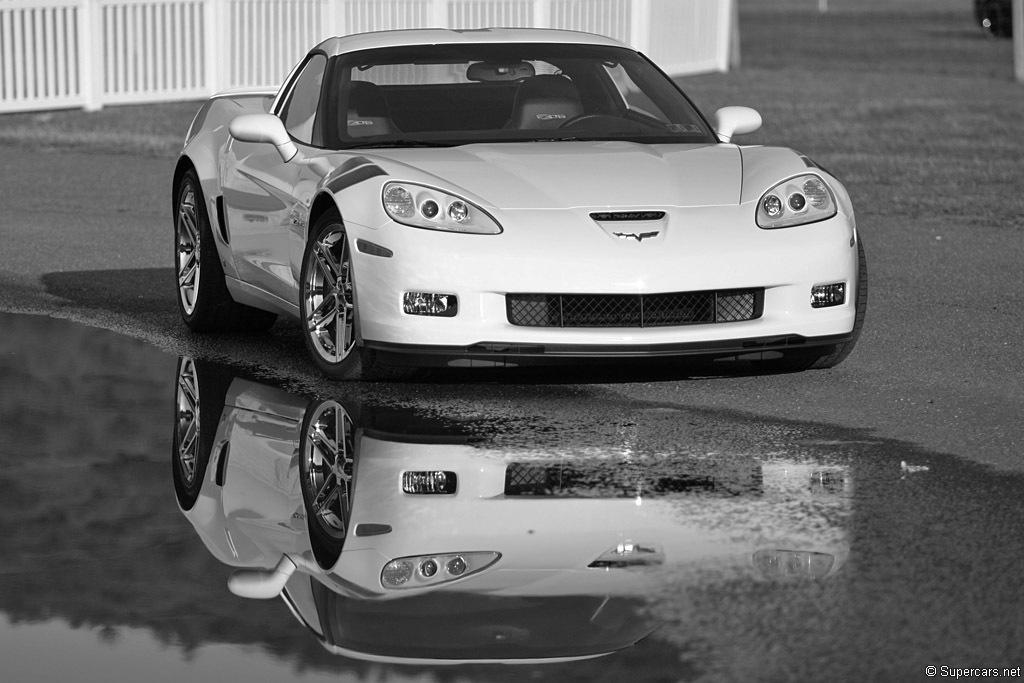car: (167, 27, 874, 383)
